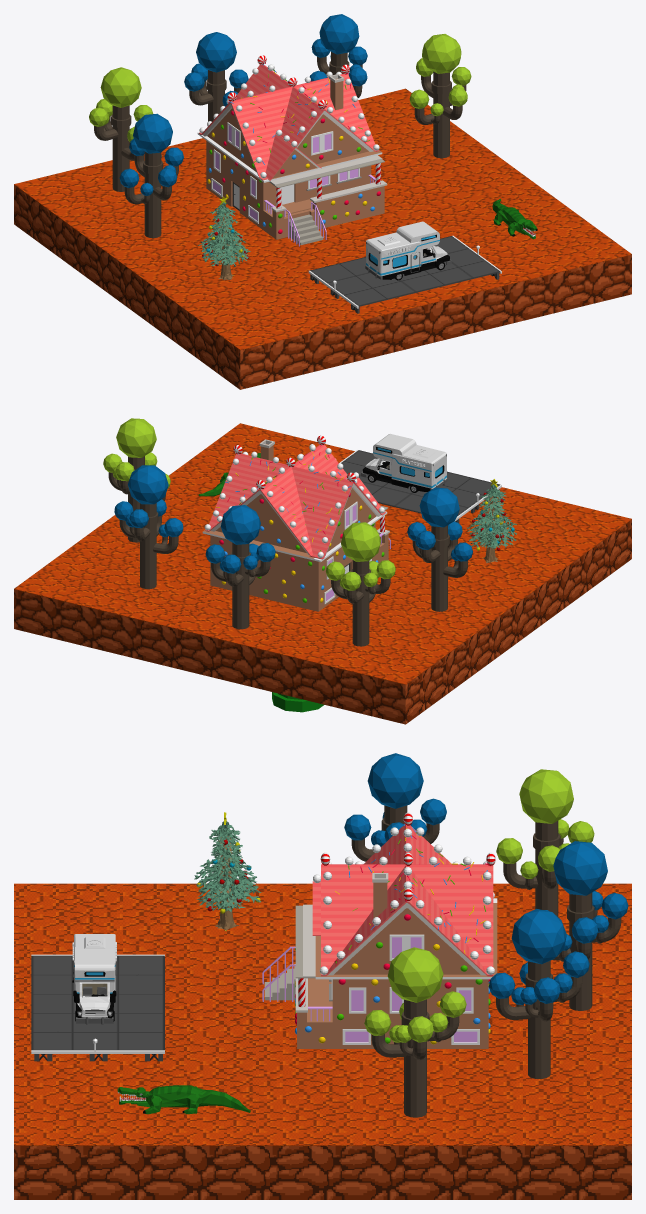
The picture shows the model from 3 angles, top to bottom: view 1: azimuth 30°, elevation 25°; view 2: azimuth 150°, elevation 25°; view 3: azimuth 270°, elevation 25°; orthographic projection. The views are drawn at different scales.
Parts seen in each view (by area): view 1: Cube.001, Cube.1203, VEHICLES_CAMPER, OBJRANDOM_CHRISTMAS_TREE, ANIMAL_COCODRILO; view 2: Cube.001, Cube.1203, VEHICLES_CAMPER, OBJRANDOM_CHRISTMAS_TREE, UNDERGROUND_PIPES; view 3: Cube.001, Cube.1203, OBJRANDOM_CHRISTMAS_TREE, VEHICLES_CAMPER, ANIMAL_COCODRILO.
Part boxes in pixels (x1=…): Cube.001: x1=14, y1=14, x2=631, y2=389; Cube.1203: x1=197, y1=55, x2=387, y2=246; VEHICLES_CAMPER: x1=365, y1=221, x2=451, y2=280; OBJRANDOM_CHRISTMAS_TREE: x1=198, y1=196, x2=250, y2=280; ANIMAL_COCODRILO: x1=492, y1=198, x2=537, y2=239; Cube.001: x1=14, y1=418, x2=631, y2=724; Cube.1203: x1=202, y1=435, x2=390, y2=611; VEHICLES_CAMPER: x1=361, y1=434, x2=447, y2=492; OBJRANDOM_CHRISTMAS_TREE: x1=466, y1=479, x2=516, y2=563; UNDERGROUND_PIPES: x1=272, y1=692, x2=324, y2=712; Cube.001: x1=14, y1=753, x2=631, y2=1199; Cube.1203: x1=262, y1=812, x2=497, y2=1048; OBJRANDOM_CHRISTMAS_TREE: x1=194, y1=812, x2=261, y2=930; VEHICLES_CAMPER: x1=72, y1=934, x2=116, y2=1024; ANIMAL_COCODRILO: x1=117, y1=1085, x2=250, y2=1114.
Size of the model in its own units: 4000 by 2247 by 4000.
43 materials, 5 textured.
